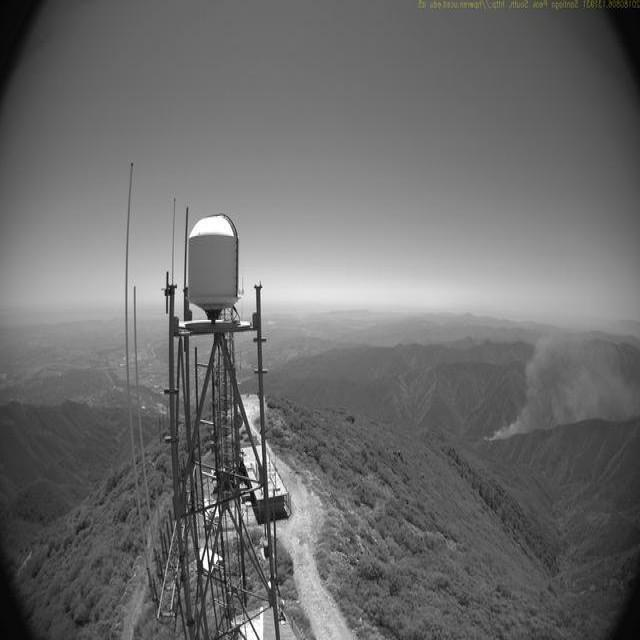smoke: (490, 323, 639, 444)
